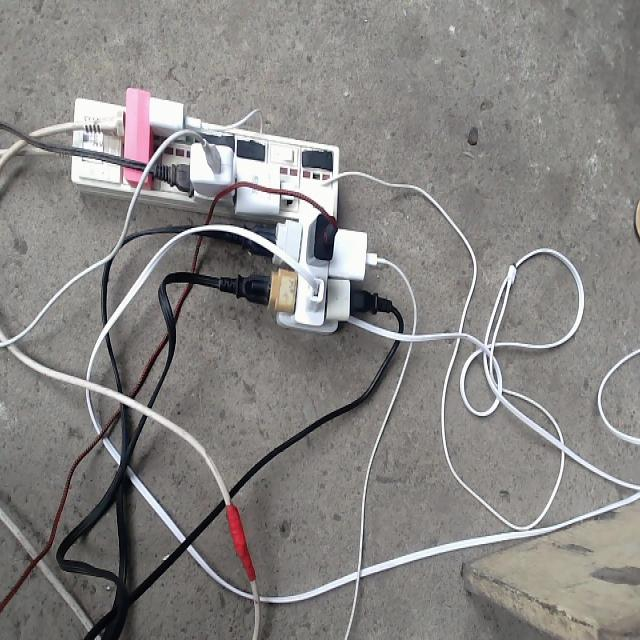-: (69, 85, 393, 335)
